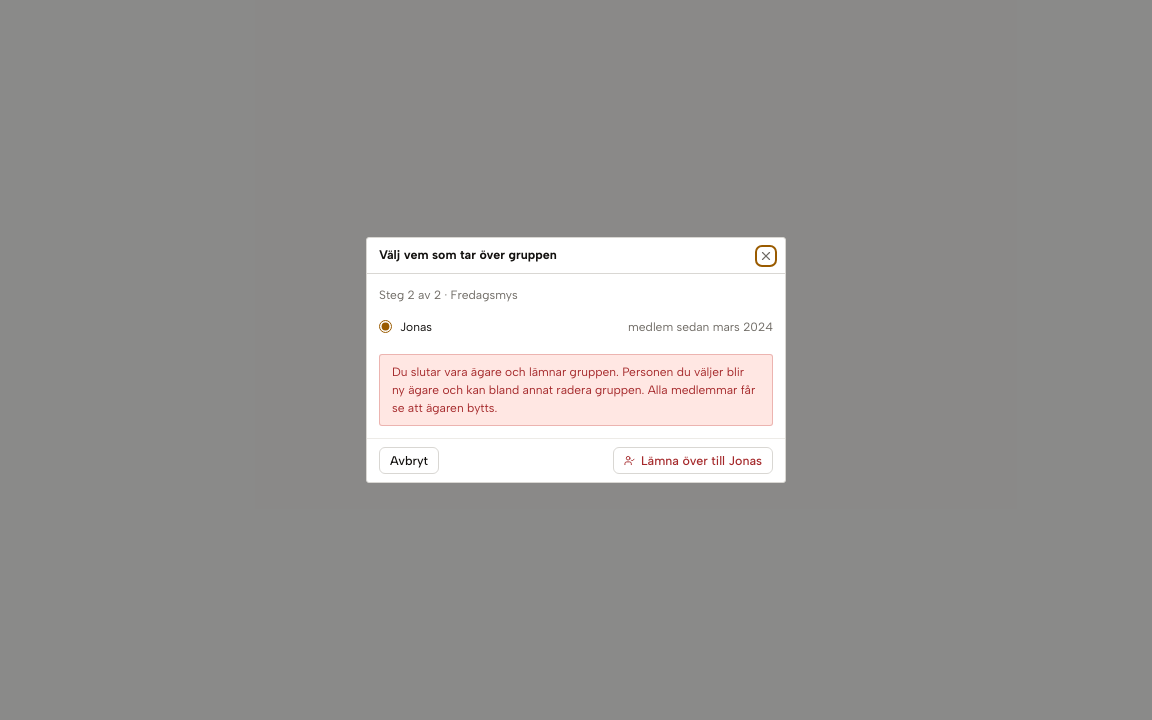
Test case: HandOverGroupDialog › ett bakgrundsklick avbryter INTE medan anropet ligger ute
Later steps or results of the test are not shown.
Click the button "Lämna över till Jonas". click: x=693, y=460
box: [613,447,773,474]
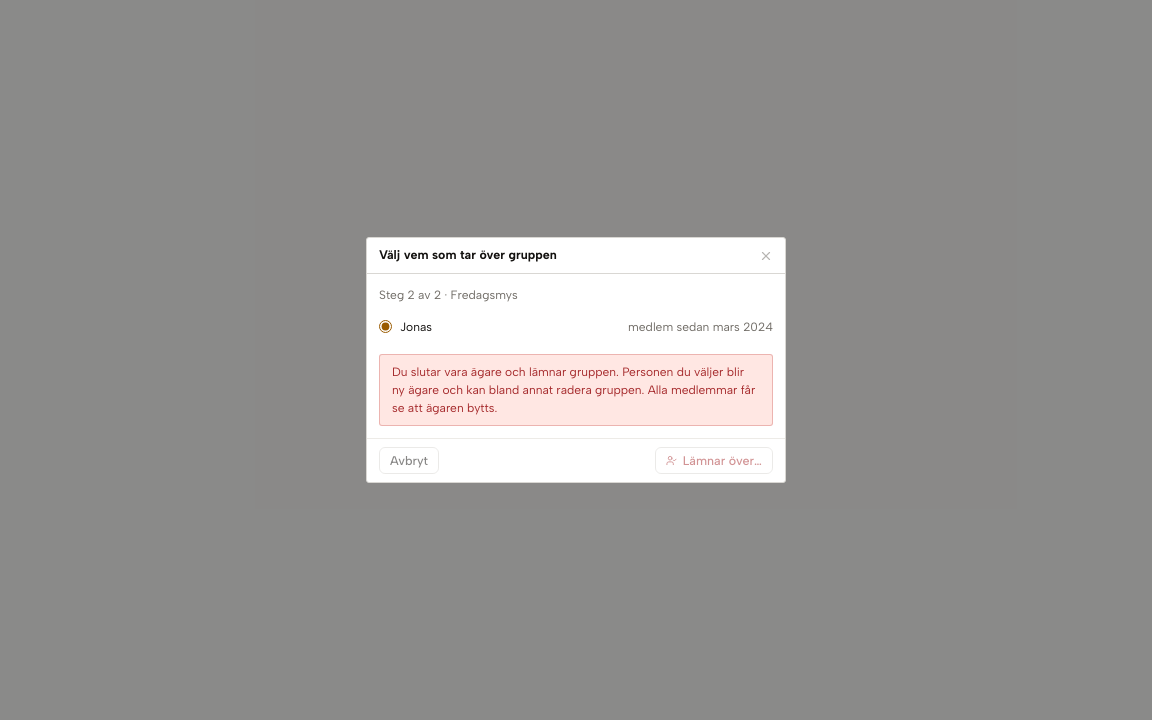
Check: the button "Lämnar över…" is shown, box [655,447,773,474]
